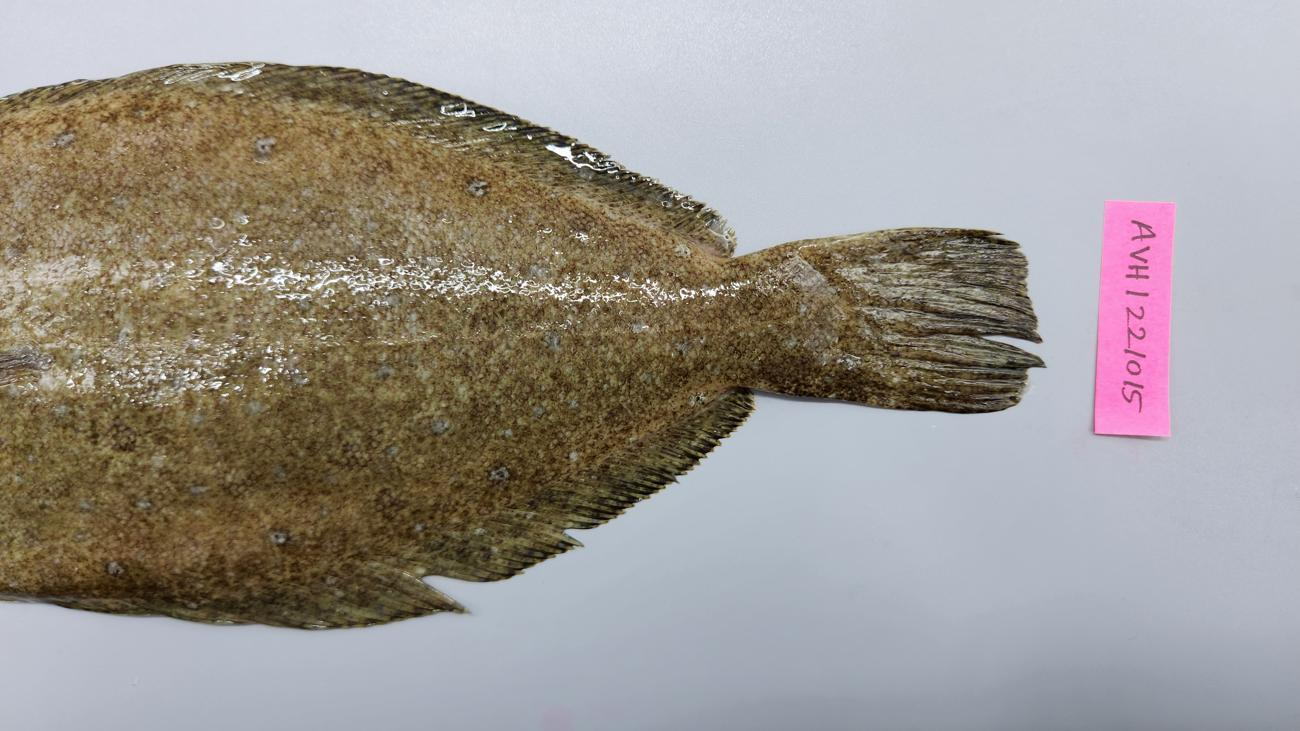VIDYH: (66, 480, 478, 592)
